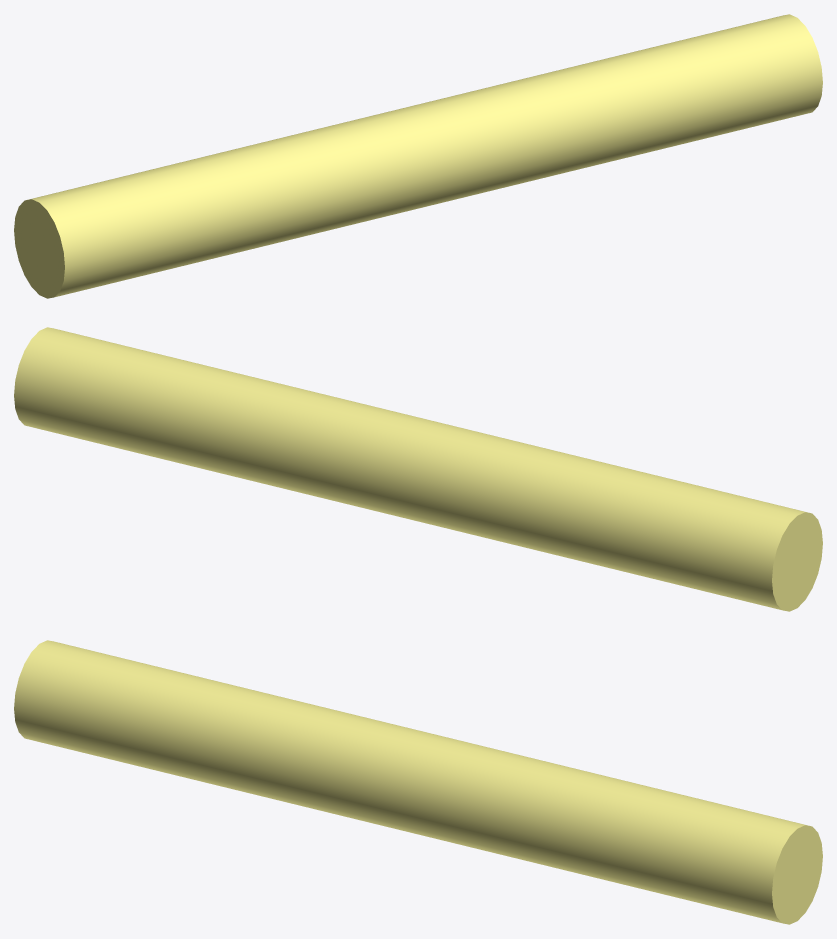
File: bumper.obj
The picture shows the model from 3 angles, top to bottom: view 1: azimuth 30°, elevation 25°; view 2: azimuth 150°, elevation 25°; view 3: azimuth 330°, elevation 25°; orthographic projection.
Visible parts, largest first — view 1: pCylinder1; view 2: pCylinder1; view 3: pCylinder1.
Part boxes in pixels (box(x1,y1,x2,y2)): pCylinder1: box(14, 14, 822, 298); pCylinder1: box(14, 327, 822, 611); pCylinder1: box(14, 640, 822, 924).
Bounding box in the file's own units: 6 × 0.7 × 0.7.
